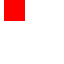square: (4, 0, 24, 20)
